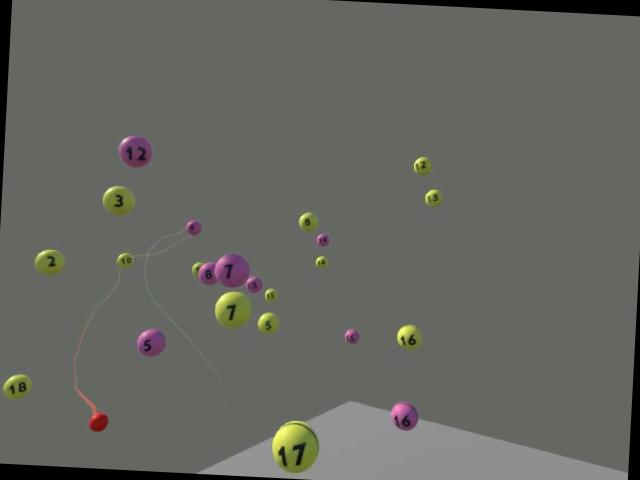ball_02_yellow: (34, 248, 65, 275)
ball_03_yellow: (102, 184, 134, 216)
ball_05_pink: (136, 328, 165, 357)
ball_05_yellow: (257, 312, 281, 336)
ball_07_pink: (213, 252, 250, 288)
ball_07_yellow: (214, 290, 252, 329)
ball_08_pink: (200, 262, 216, 283)
ball_08_yellow: (298, 211, 318, 232)
ball_09_pink: (185, 219, 201, 235)
ball_10_yellow: (115, 252, 134, 268)
ball_12_pink: (118, 134, 154, 168)
ball_12_yellow: (412, 156, 432, 174)
ball_13_pink: (245, 275, 262, 293)
ball_13_yellow: (424, 188, 443, 206)
ball_14_pink: (316, 232, 330, 246)
ball_14_yellow: (314, 255, 330, 268)
ball_15_pink: (344, 328, 359, 344)
ball_15_yellow: (264, 287, 276, 302)
ball_16_pink: (389, 401, 418, 431)
ball_16_yellow: (396, 324, 422, 350)
ball_17_yellow: (270, 419, 320, 473)
ball_18_yellow: (1, 374, 33, 400)
ball_unknown: (191, 260, 204, 276)
user_cursor: (88, 411, 108, 432)
